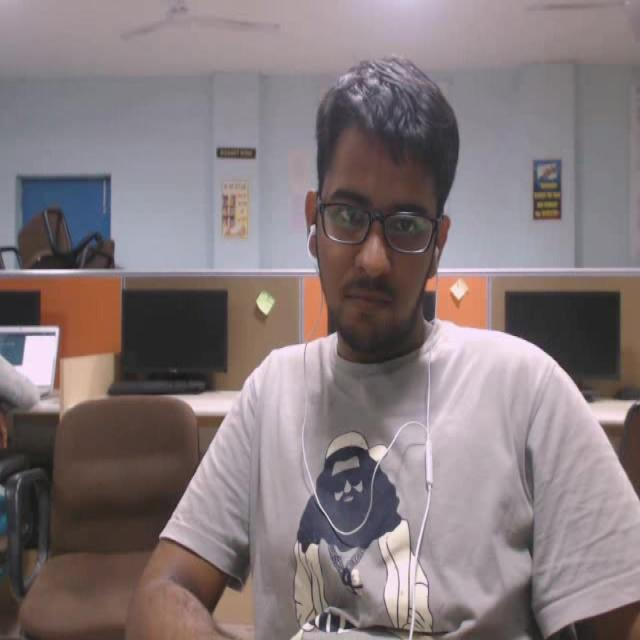Bored: (286, 46, 476, 428)
